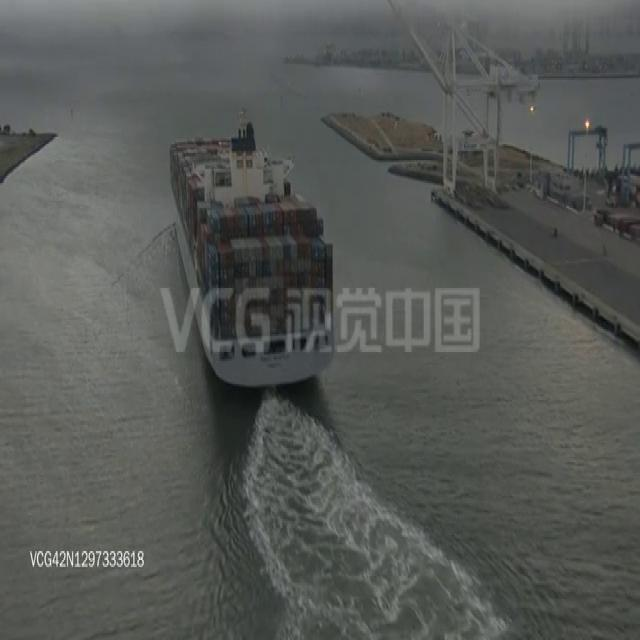cargoship: (169, 116, 333, 389)
